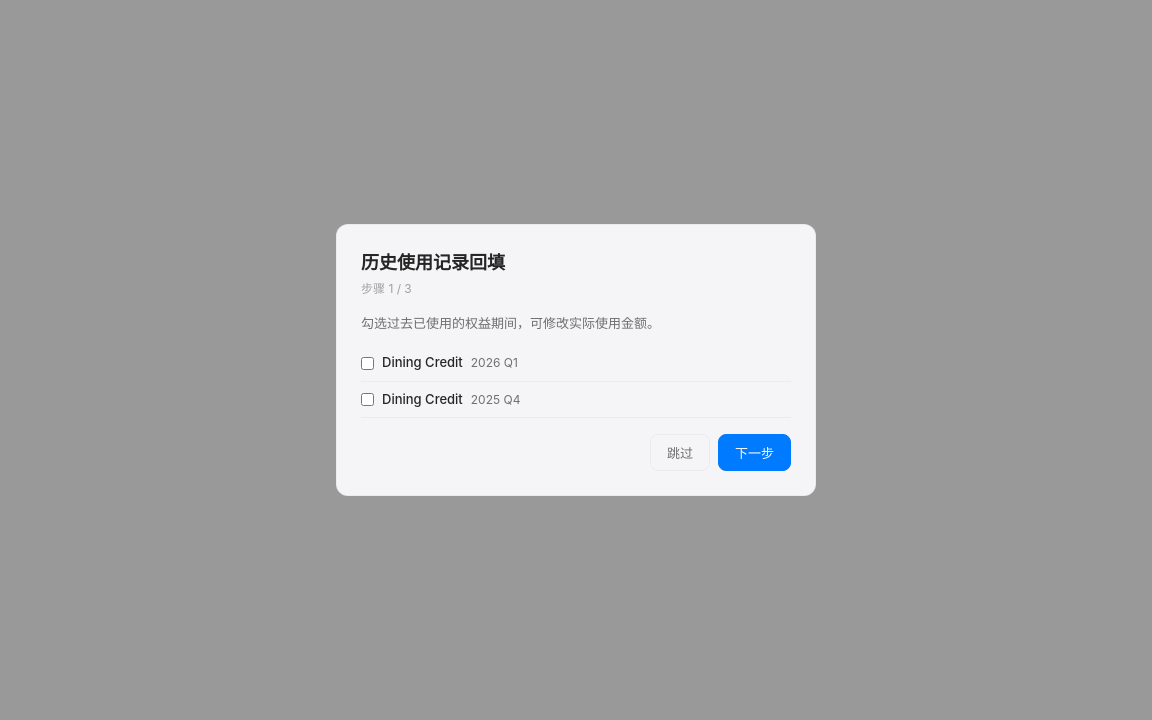
BackfillDialog › can skip step 1 and go to step 2 for rollover benefits
The width and height of the screenshot is (1152, 720).
Click the button "跳过" at {"x": 680, "y": 453}, box [650,434,710,471]
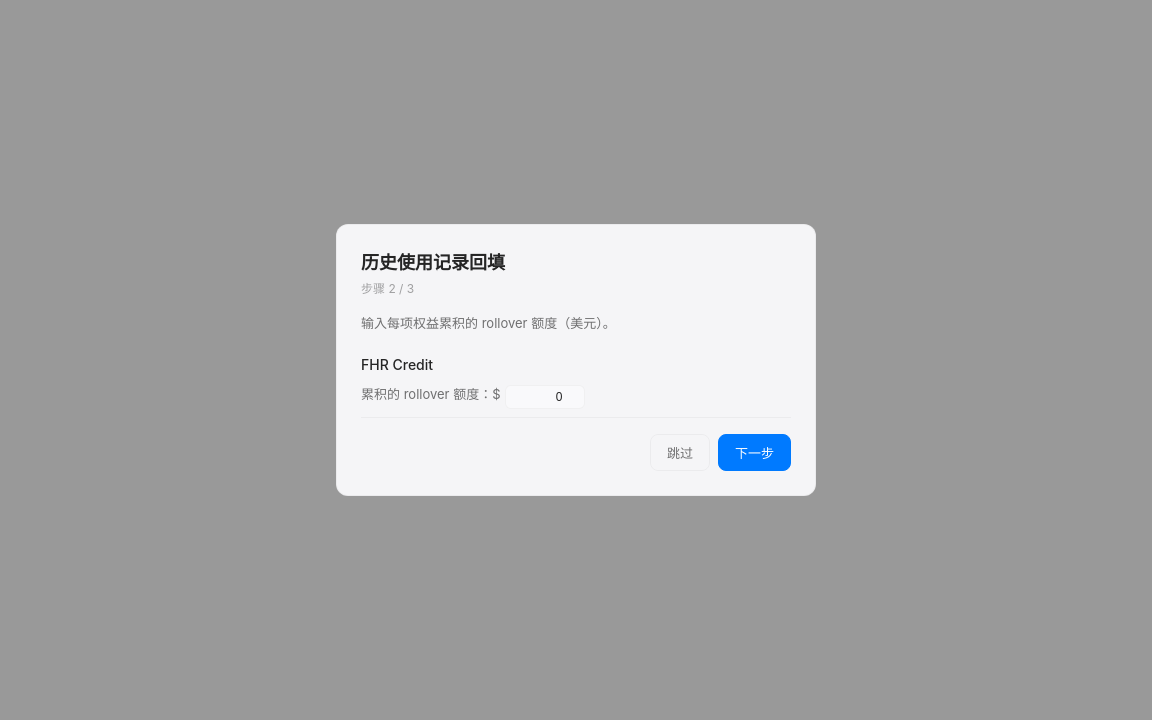
Expected: the text "FHR Credit" is shown, [361,356,433,373]
Expected: the text "输入每项权益累积的 rollover 额度（美元）。" is shown, [361,315,616,331]
